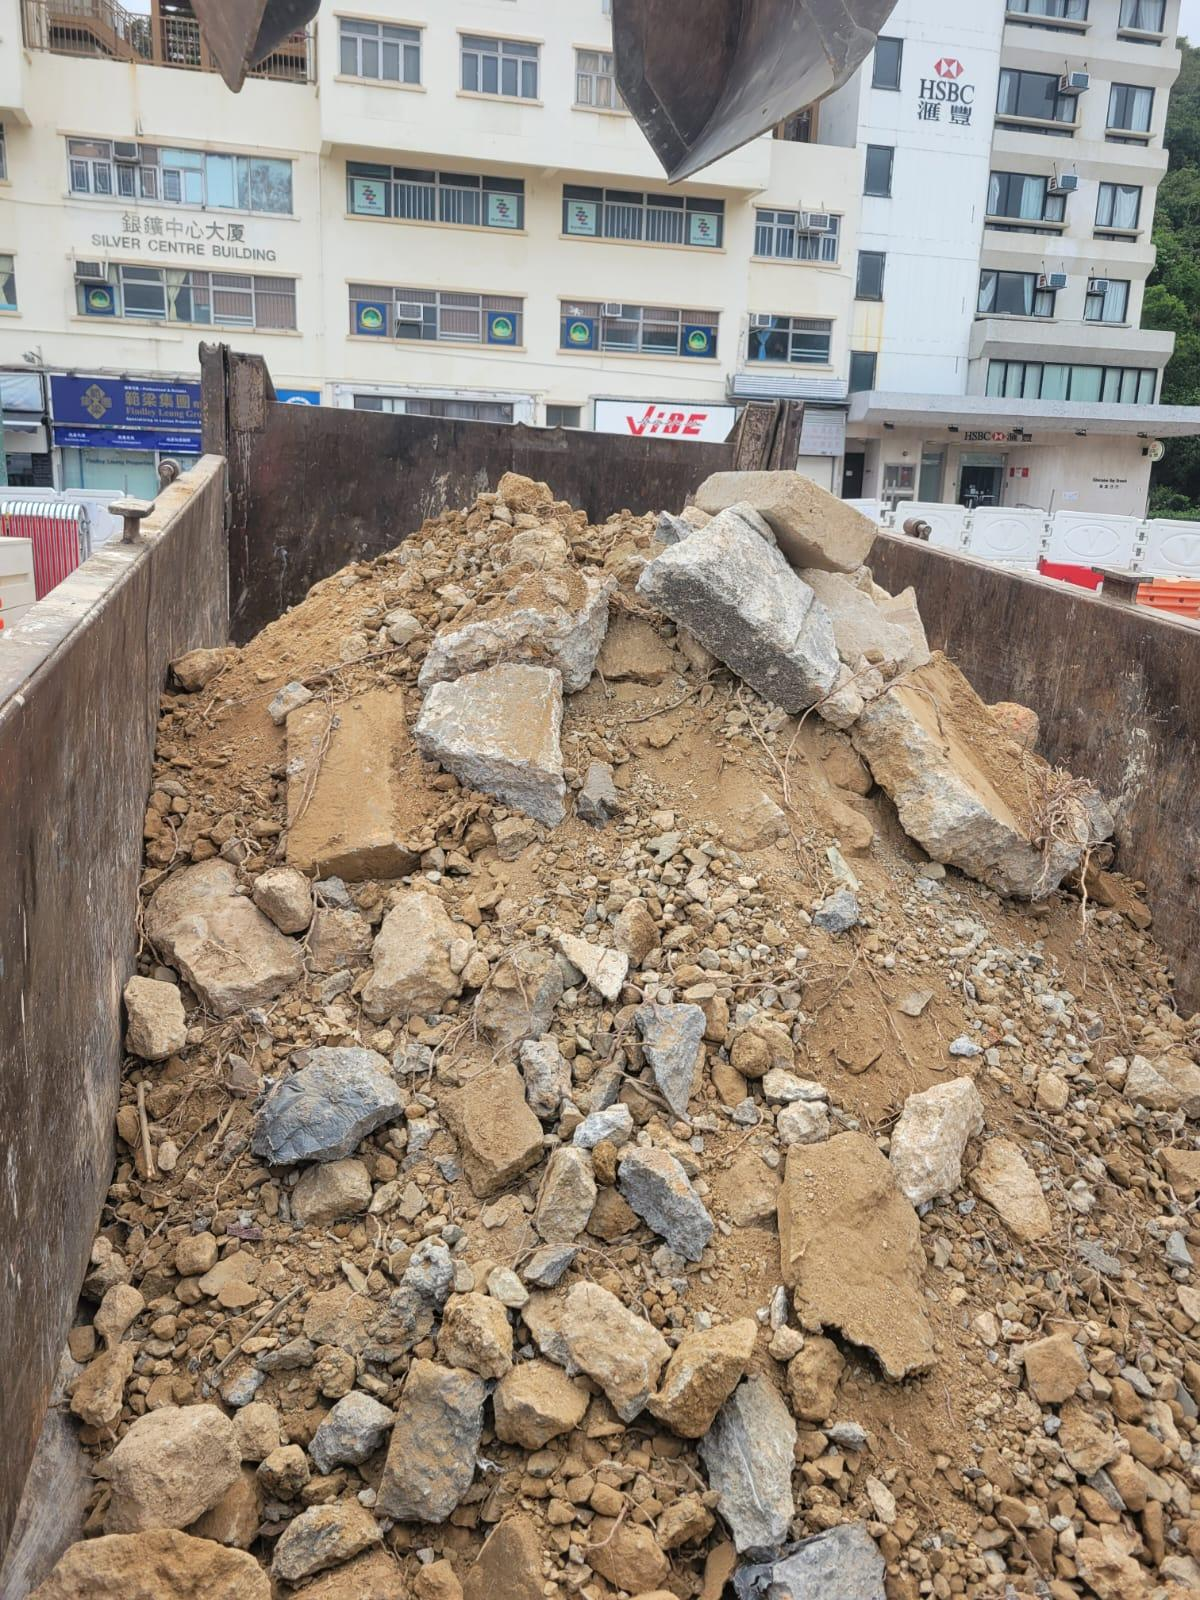dry: (117, 508, 1200, 1600)
